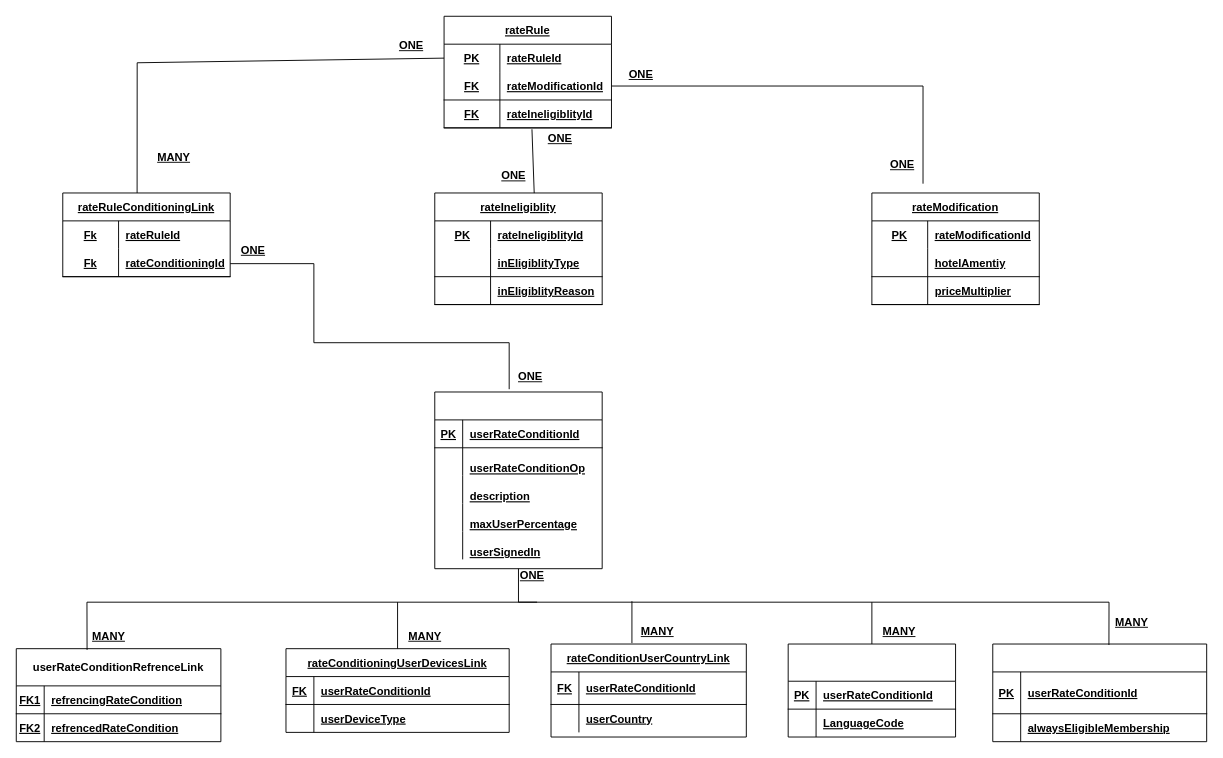
The diagram is 1223 pixels wide and 758 high, and some of its shapes have lost their labels. Here are the shapes that lost their labels. From the top down, the box of each, then its label:
(434, 391, 602, 569): Table
(787, 643, 956, 737): rateConditionLanguageLink
(992, 643, 1207, 742): RateConditioningMembershipLink
